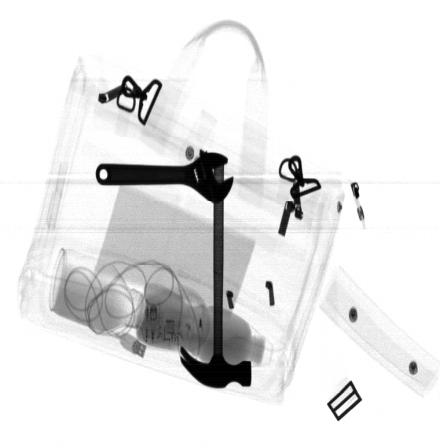Hammer: (179, 157, 252, 388)
Wrench: (95, 153, 234, 204)
